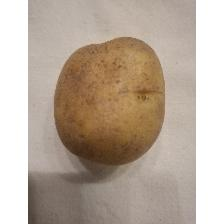Kartoffel: (52, 32, 168, 170)
